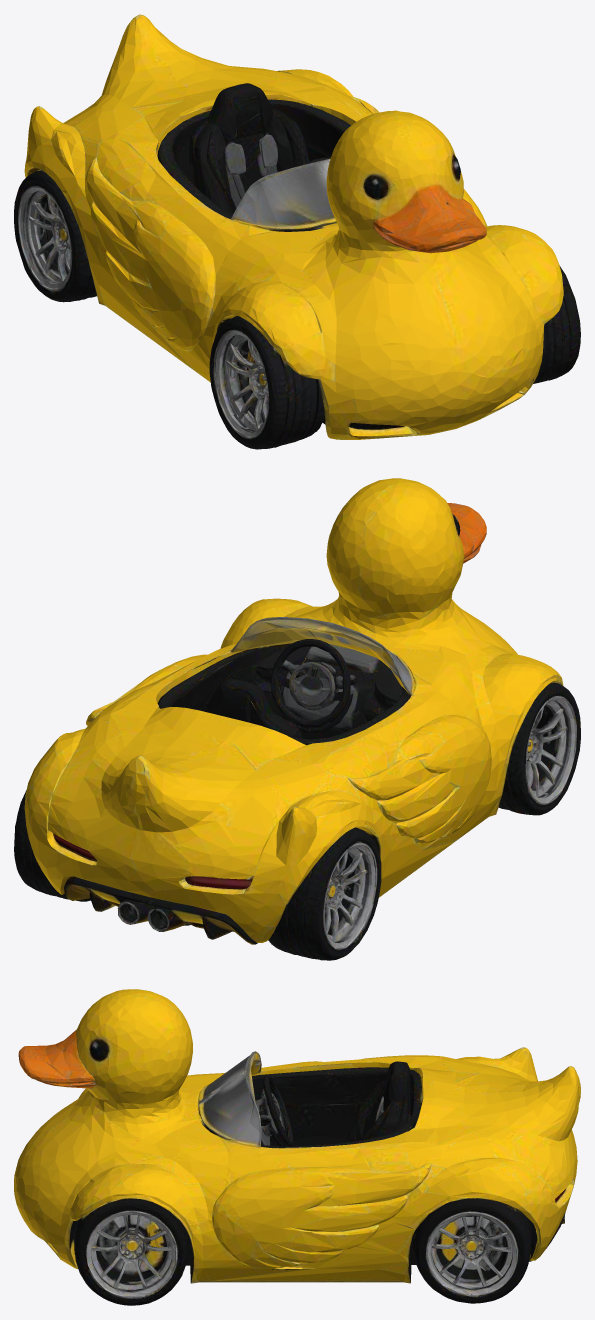
Rendered from duck_plasma.glb.
3 views of the same model, one above another, from view 1: azimuth 30°, elevation 25°; view 2: azimuth 150°, elevation 25°; view 3: azimuth 270°, elevation 25° (orthographic). The views are drawn at different scales.
Parts seen in each view (by area): view 1: body, wheel_FR_mesh, wheel_RR_mesh, wheel_FL_mesh; view 2: body, wheel_RR_mesh, wheel_FR_mesh, wheel_RL_mesh; view 3: body, wheel_RL_mesh, wheel_FL_mesh.
Part boxes in pixels (left/top/right/bottom): body: left=24, top=14, right=563, bottom=439; wheel_FR_mesh: left=209, top=316, right=324, bottom=449; wheel_RR_mesh: left=14, top=169, right=96, bottom=302; wheel_FL_mesh: left=533, top=266, right=580, bottom=383; body: left=24, top=478, right=563, bottom=944; wheel_RR_mesh: left=268, top=827, right=381, bottom=960; wheel_FR_mesh: left=498, top=681, right=580, bottom=815; wheel_RL_mesh: left=14, top=790, right=90, bottom=901; body: left=14, top=989, right=580, bottom=1283; wheel_RL_mesh: left=412, top=1198, right=535, bottom=1303; wheel_FL_mesh: left=69, top=1198, right=188, bottom=1305.
Bounding box in the file's own units: 2.16 × 1.9 × 3.92.
1 material, 1 textured.
